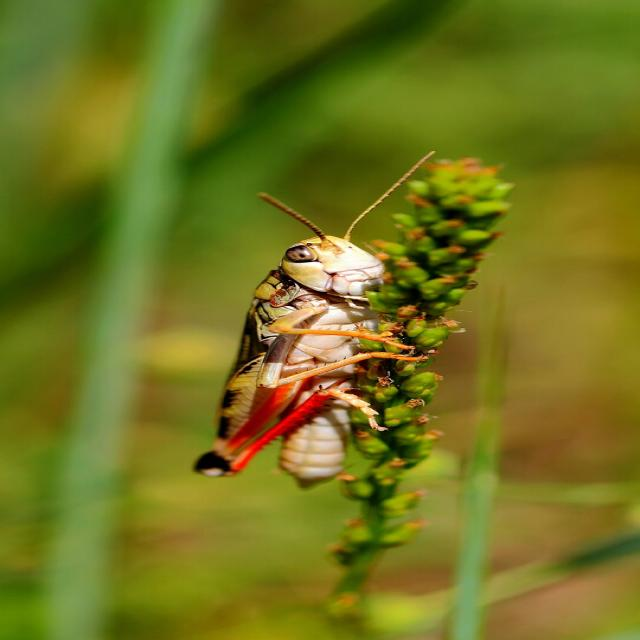ZhaMeng: (188, 170, 462, 506)
